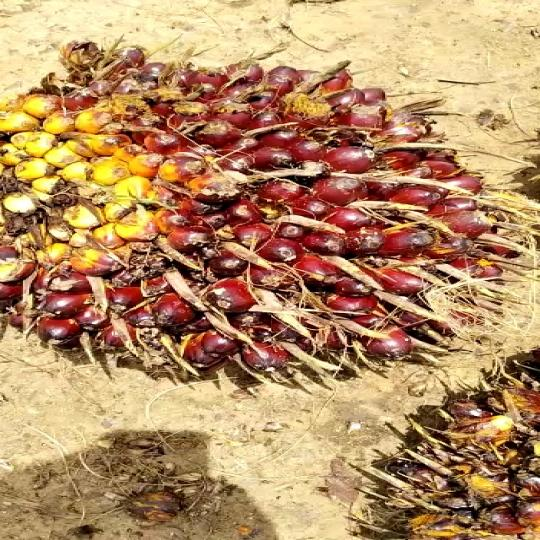kurang masak: (0, 32, 523, 398)
